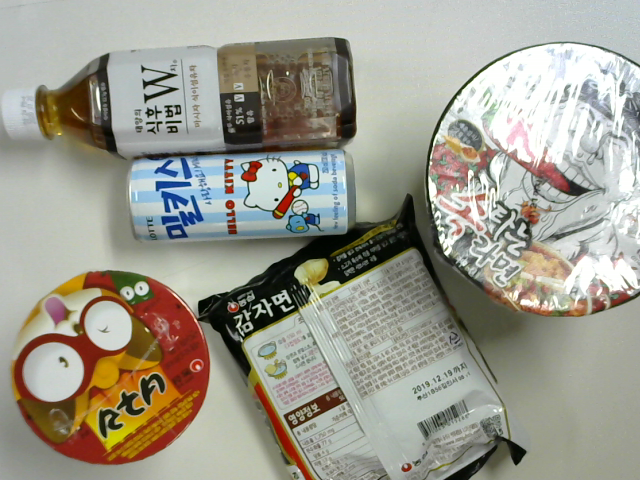HeJangsock: (417, 44, 640, 314)
Milkies_250ml: (113, 148, 361, 242)
Post-meal_recipe_W_tea_500ml: (5, 30, 367, 150)
Potato: (193, 196, 512, 480)
Raccoon: (1, 266, 205, 470)
